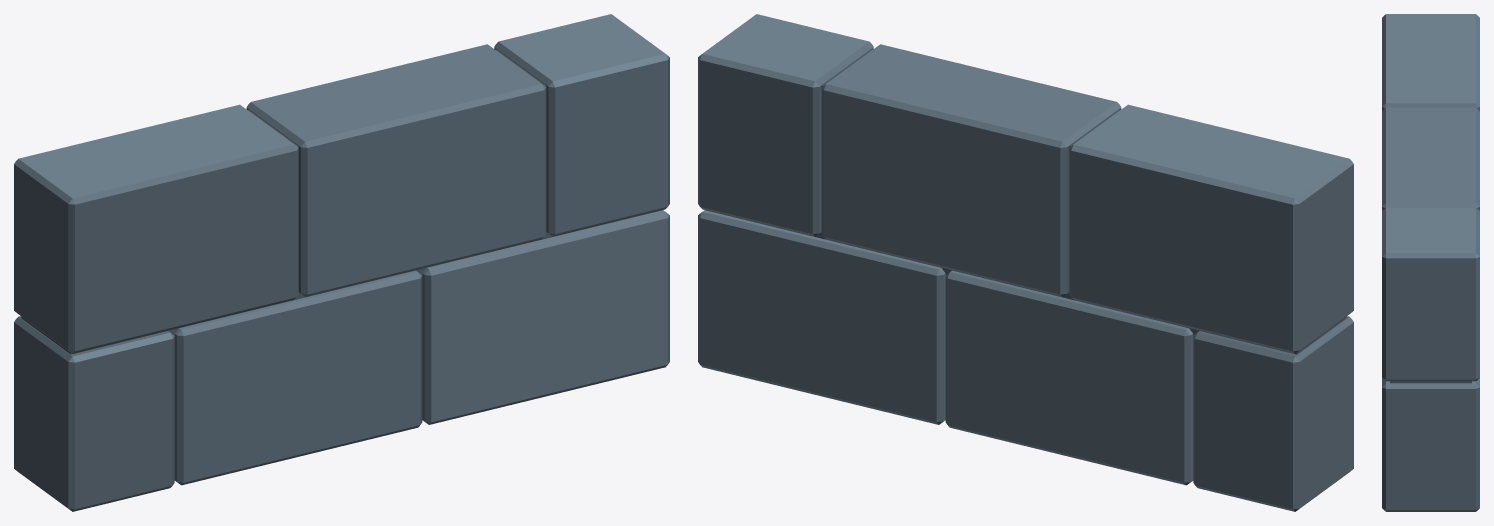
File: A03_Wall_Low_2m.fbx
3 renders of one model, left to right at view 1: azimuth 30°, elevation 25°; view 2: azimuth 150°, elevation 25°; view 3: azimuth 270°, elevation 25°, orthographic. The views are drawn at different scales.
Visible parts, largest first — view 1: A03_Wall_Low_2m; view 2: A03_Wall_Low_2m; view 3: A03_Wall_Low_2m.
Part boxes in pixels (x1,y1,x2,y2): A03_Wall_Low_2m: (14,14,669,511); A03_Wall_Low_2m: (698,14,1353,511); A03_Wall_Low_2m: (1382,14,1479,511).
Size of the model in its own units: 1.99 by 0.992 by 0.34.
1 material, 1 textured.
